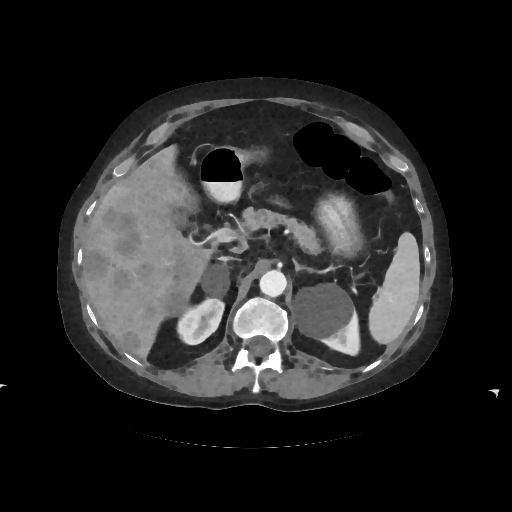Lesion: (287, 284, 356, 342)
